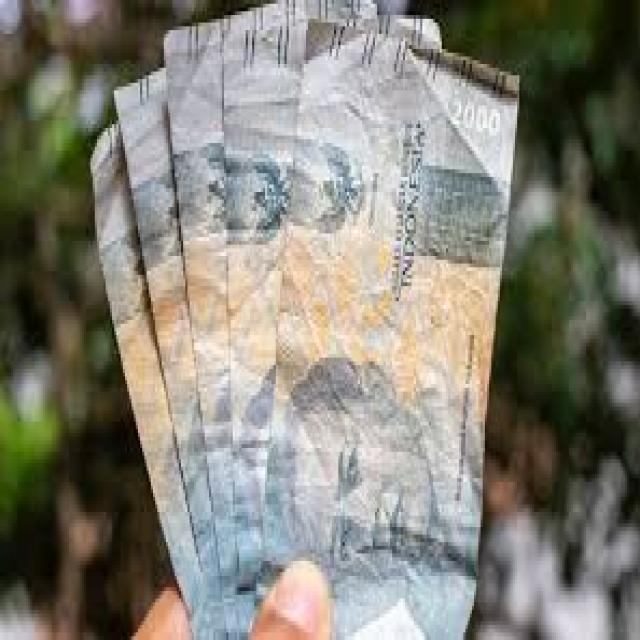dua ribu rupiah: (120, 44, 493, 614)
